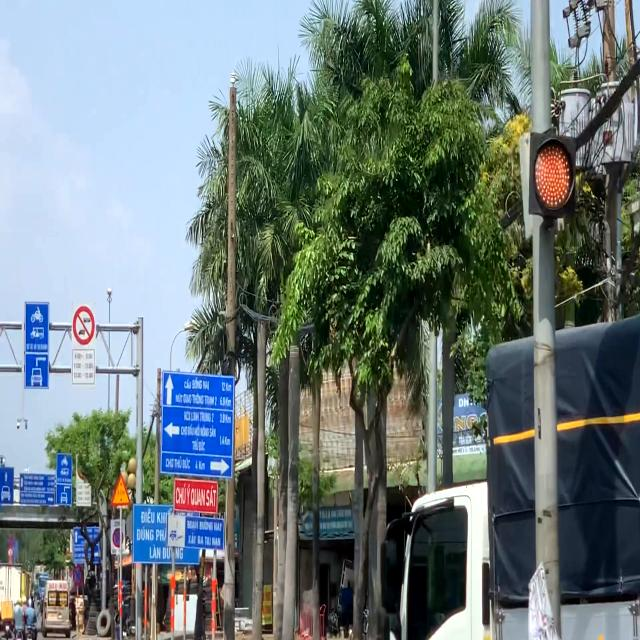P.130: (73, 567, 82, 587)
S.509a: (111, 473, 132, 507)
